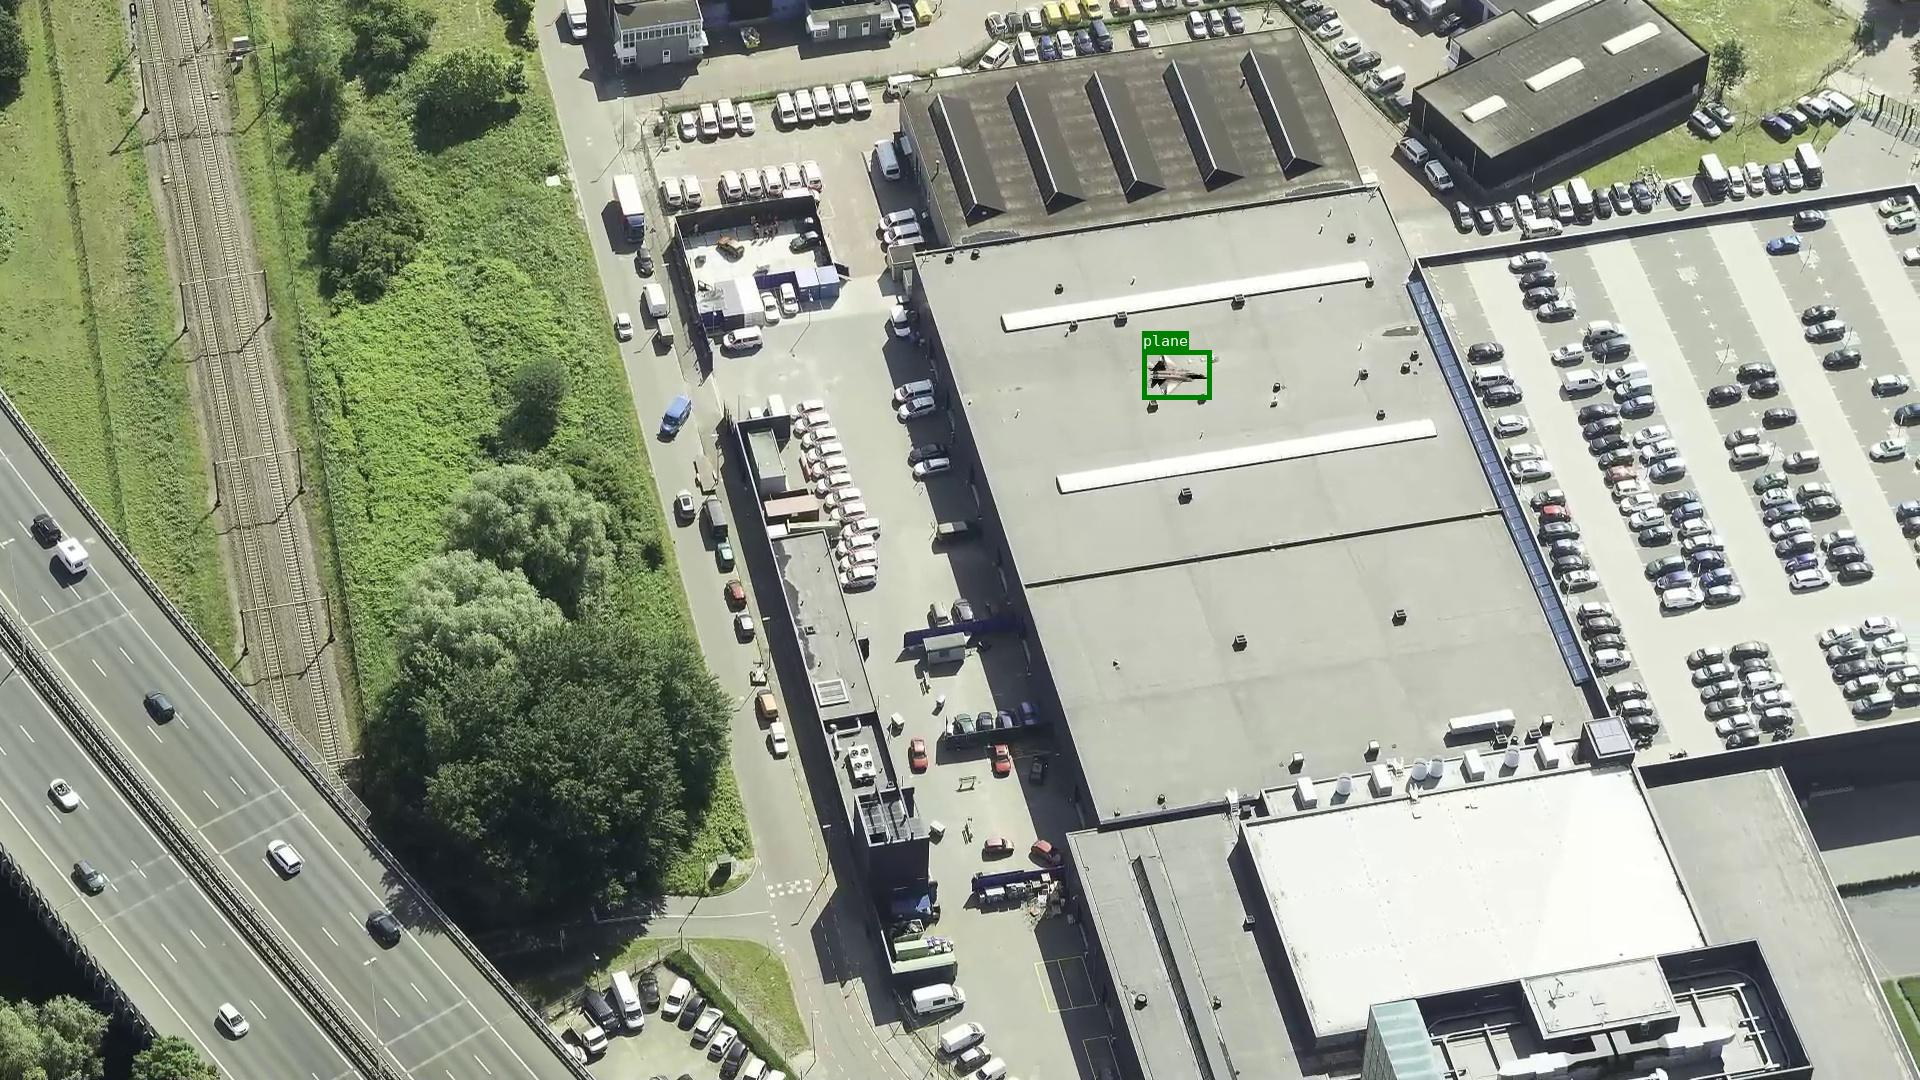plane: (1142, 349, 1211, 400)
